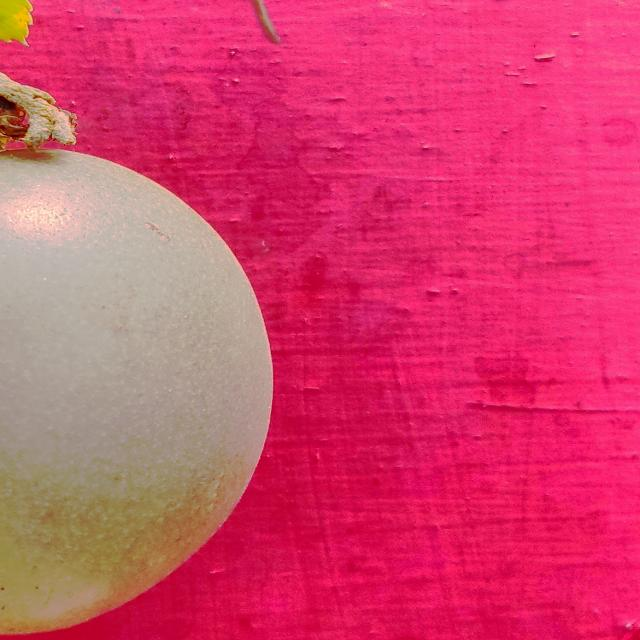Estado-3: (0, 70, 274, 638)
